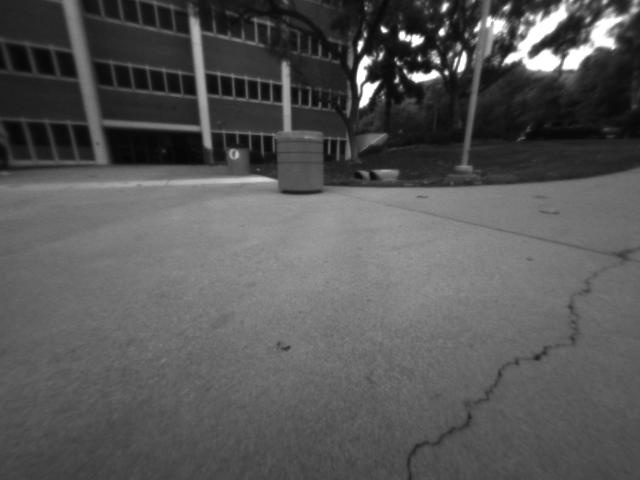trashcan: (271, 124, 330, 201), (223, 138, 251, 175)
